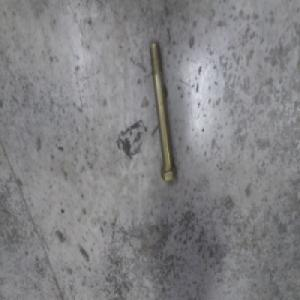Bolt: (147, 41, 177, 179)
